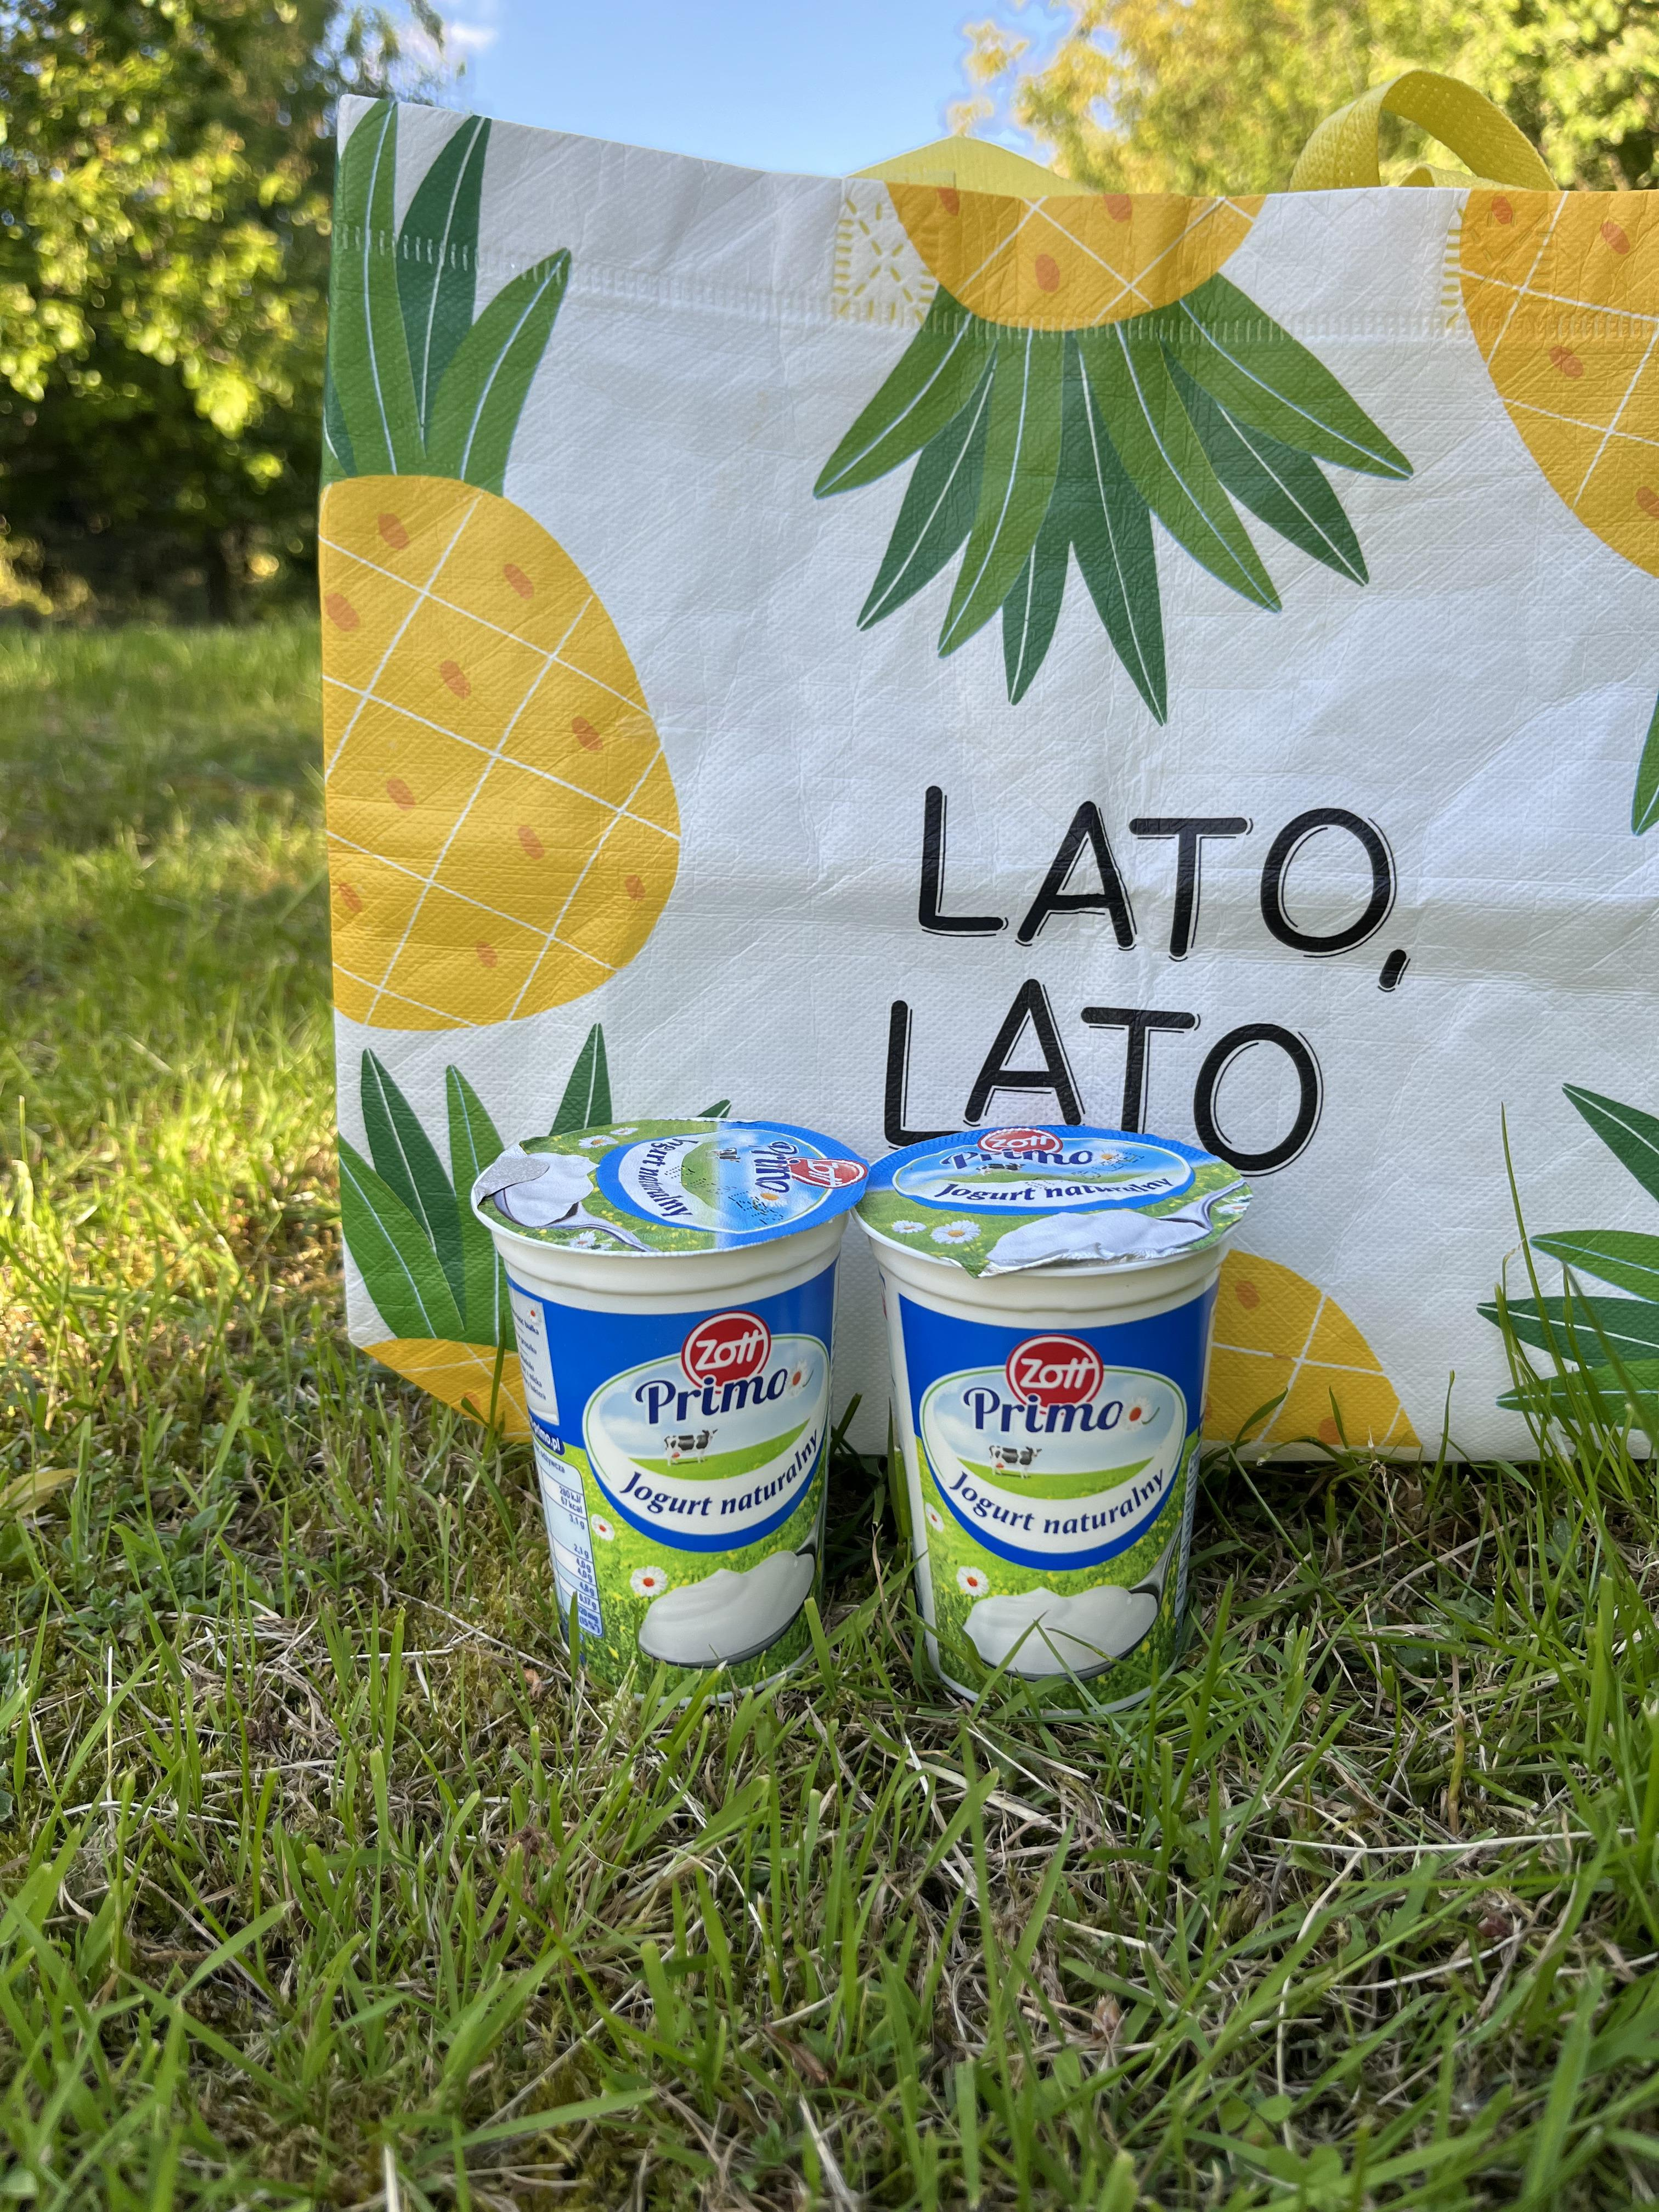Yogurt: (884, 1122, 1239, 1716), (521, 1144, 850, 1663)
